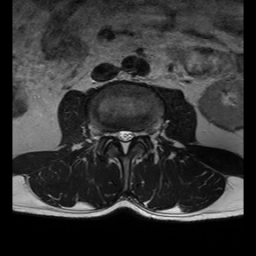CCS_normal: (121, 125, 128, 160)
LFS_stenosis: (136, 126, 143, 143)
LLS_stenosis: (128, 125, 136, 145)
RFS_severe_stenosis: (106, 124, 115, 143)
RLS_stenosis: (114, 125, 121, 146)
